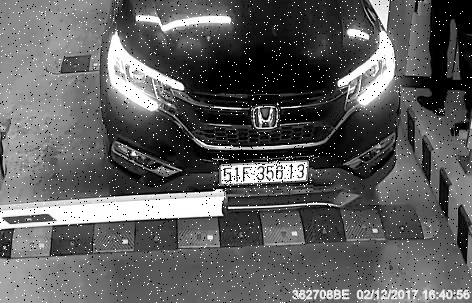License-plate: (215, 155, 316, 194)
